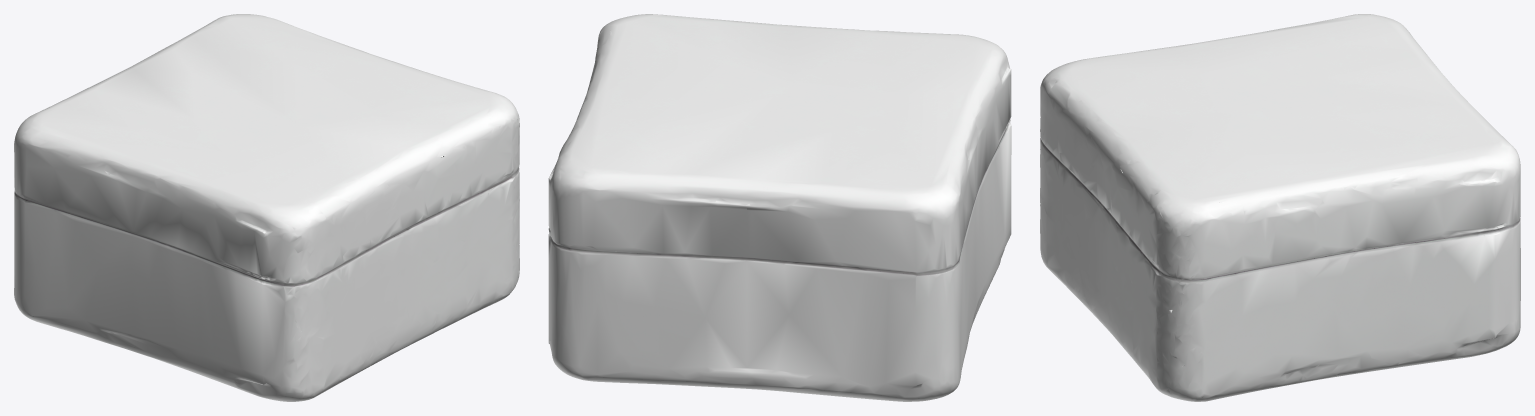
Rendered from Meshy_AI_Glossy_White_Cube_0613124318_texture.fbx.
The picture shows the model from 3 angles, left to right: view 1: azimuth 30°, elevation 25°; view 2: azimuth 150°, elevation 25°; view 3: azimuth 270°, elevation 25°; orthographic projection. The views are drawn at different scales.
Parts seen in each view (by area): view 1: Mesh_0; view 2: Mesh_0; view 3: Mesh_0.
Part boxes in pixels (x1,y1,x2,y2): Mesh_0: (14, 14, 519, 401); Mesh_0: (548, 14, 1011, 401); Mesh_0: (1040, 14, 1520, 401).
Bounding box in the file's own units: 191 × 86.12 × 189.
1 material, 1 textured.
